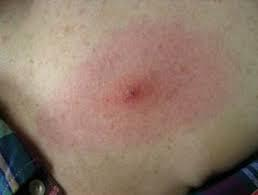Tick: (61, 37, 217, 152)
